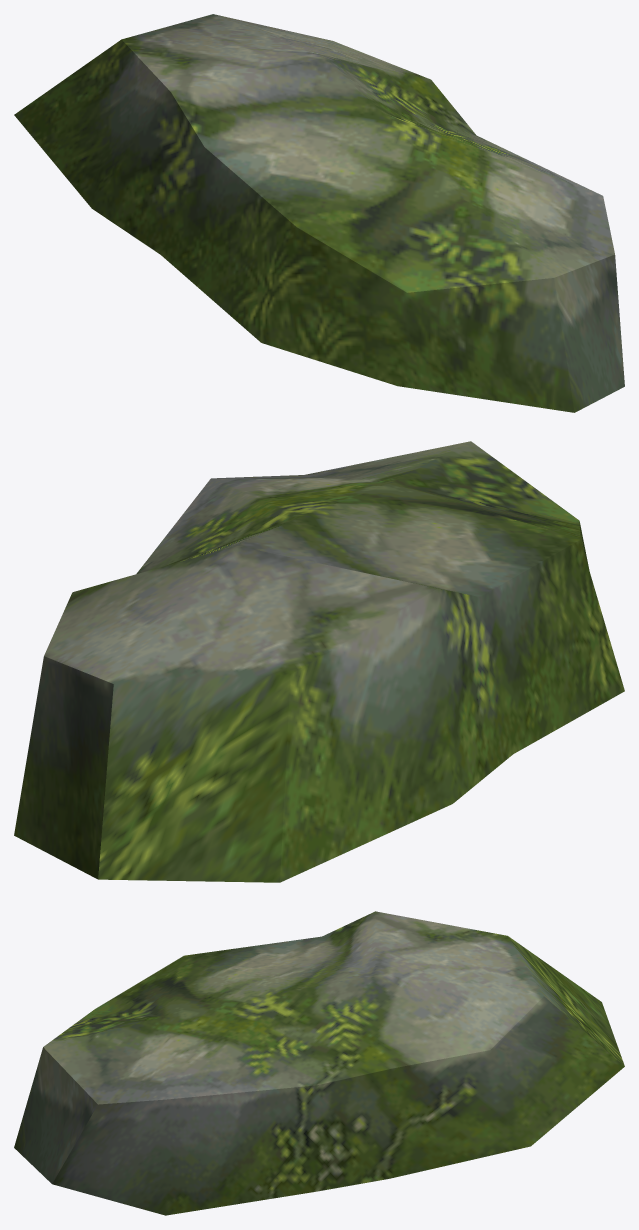
File: xl_shitou_8.FBX
3 renders of one model, top to bottom at view 1: azimuth 30°, elevation 25°; view 2: azimuth 150°, elevation 25°; view 3: azimuth 270°, elevation 25°, orthographic. The views are drawn at different scales.
Visible parts, largest first — view 1: xl_shitou_8; view 2: xl_shitou_8; view 3: xl_shitou_8.
Boxes of the visible parts, box(x1,y1,x2,y2) form: xl_shitou_8: box(14, 14, 624, 412); xl_shitou_8: box(14, 441, 624, 882); xl_shitou_8: box(14, 911, 624, 1215).
Bounding box in the file's own units: 1720 × 1010 × 3113.
